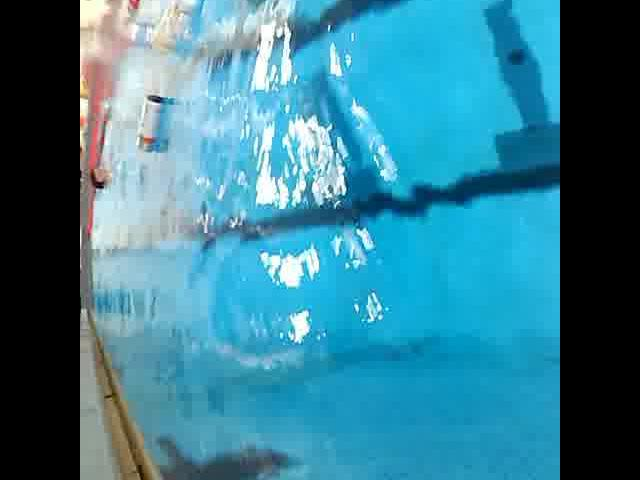Can: (124, 92, 174, 160)
